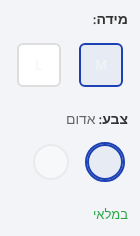
VariantSelector — the sparse catalogue › shows the colour name of the variant actually being bought
The width and height of the screenshot is (140, 236).
Step 1. Click the button "L" → (39, 65), box top-left (17, 43), bottom-right (61, 87)
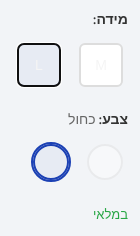
Now the text "כחול" is shown, box top-left (68, 110), bottom-right (96, 128)
Now the text "אדום" is gone
